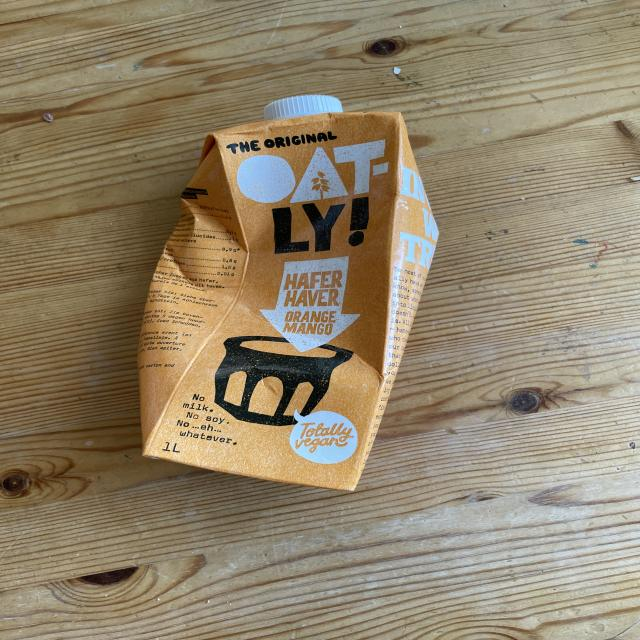non_white_jug: (124, 92, 438, 491)
